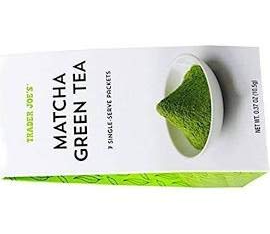val: (73, 61, 86, 94)
